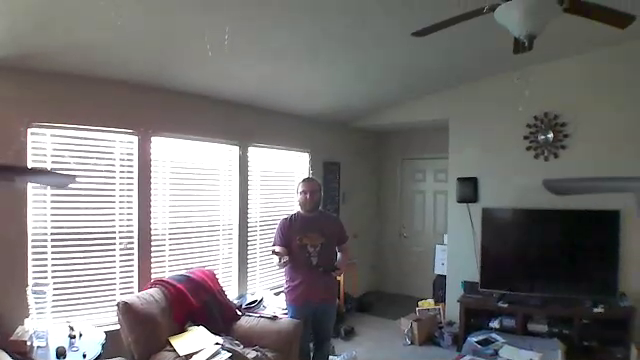land: (269, 246, 295, 270)
